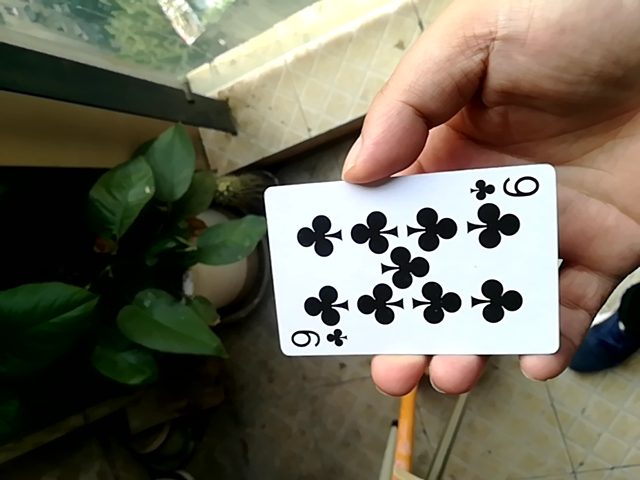mh 9: (258, 166, 556, 363)
